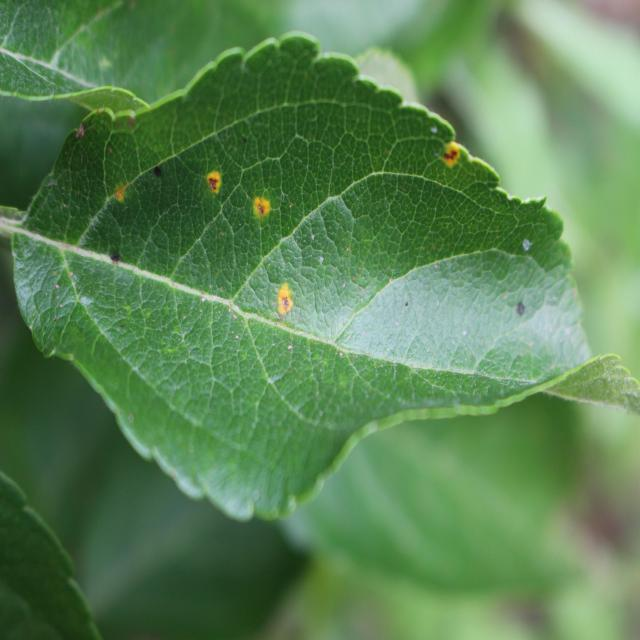Rust: (436, 134, 466, 178), (272, 280, 298, 330), (242, 190, 272, 231), (200, 167, 224, 207), (115, 180, 131, 224)
